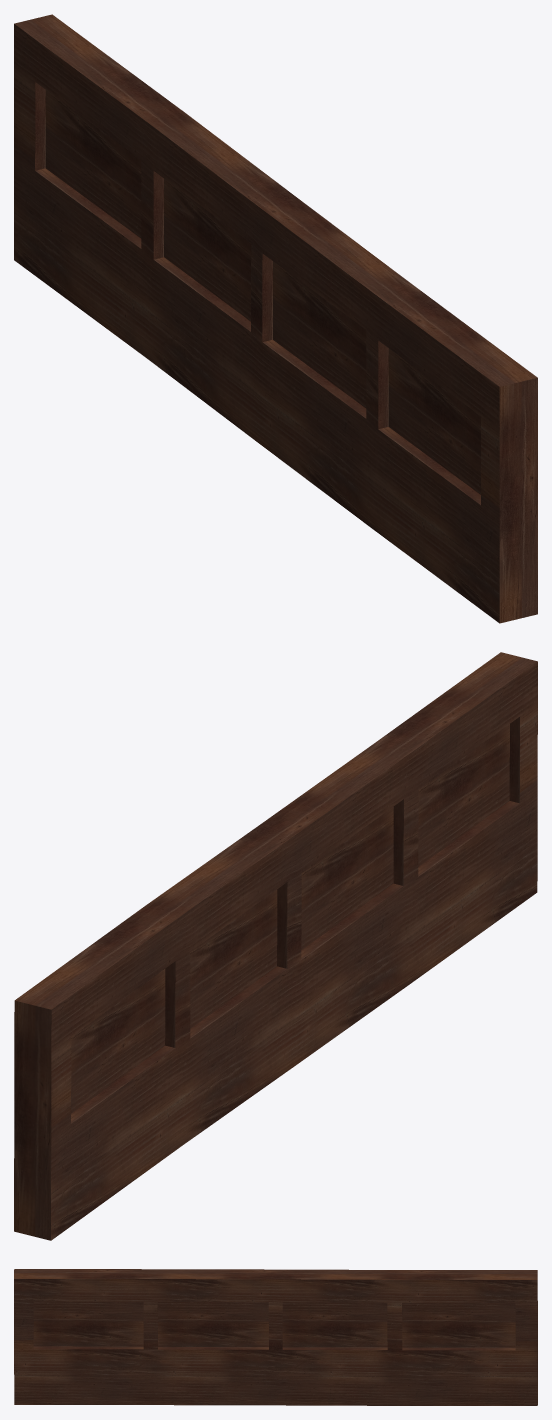
The model's file is SM_M_Handrail_9.fbx.
The picture shows the model from 3 angles, top to bottom: view 1: azimuth 30°, elevation 25°; view 2: azimuth 150°, elevation 25°; view 3: azimuth 270°, elevation 25°; orthographic projection. The views are drawn at different scales.
Parts seen in each view (by area): view 1: SM_M_Handrail_9; view 2: SM_M_Handrail_9; view 3: SM_M_Handrail_9.
Part boxes in pixels (x1,y1,x2,y2): SM_M_Handrail_9: (14, 14, 537, 623); SM_M_Handrail_9: (14, 652, 537, 1240); SM_M_Handrail_9: (14, 1269, 537, 1405).
Size of the model in its own units: 13.02 by 245 by 65.42.
Materials: 1 (1 with a texture image).
